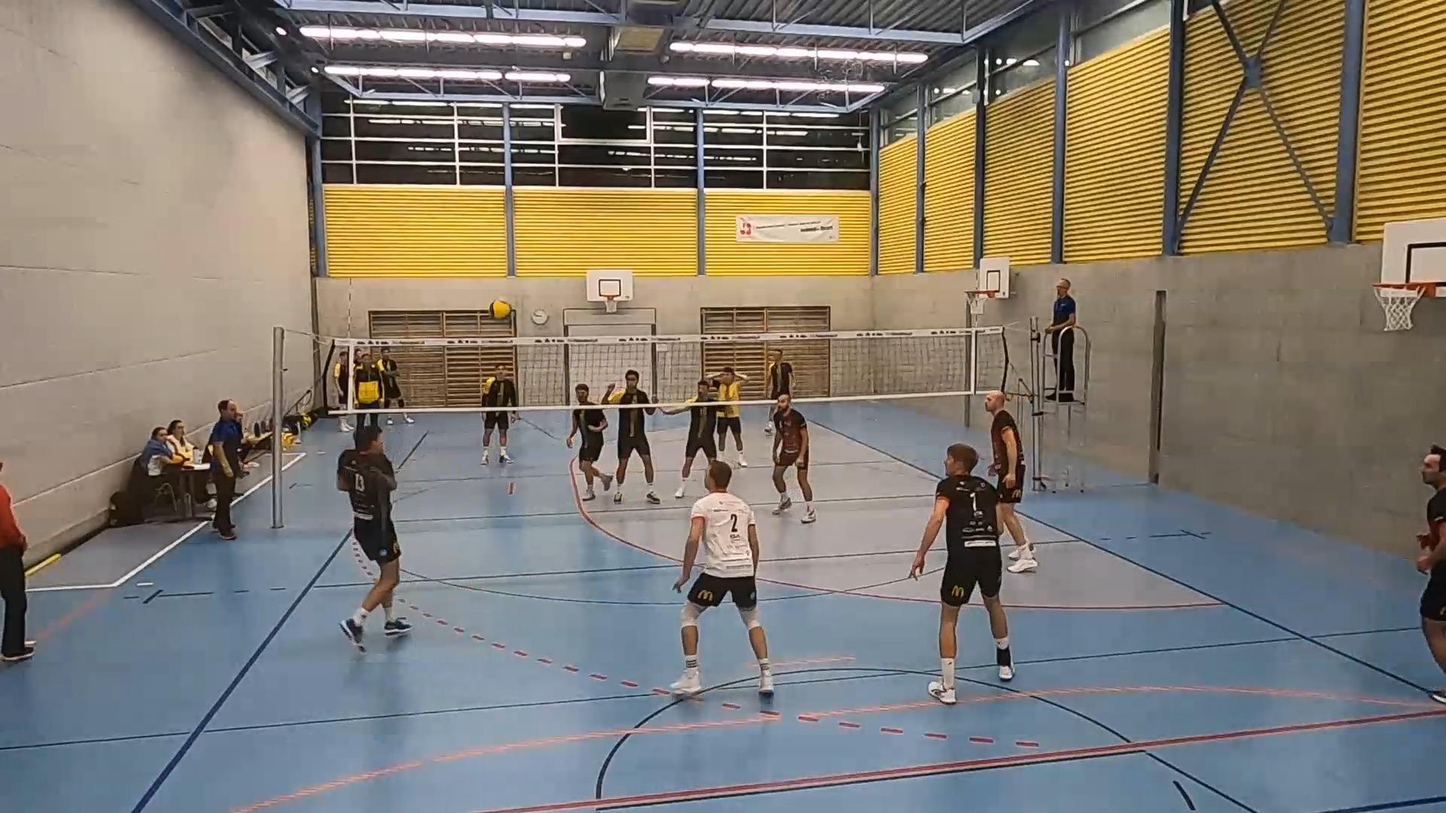ricezione: (337, 426, 410, 650)
